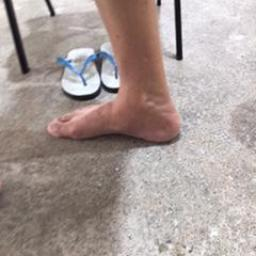Medial View -Right Foot-: (42, 66, 184, 155)
